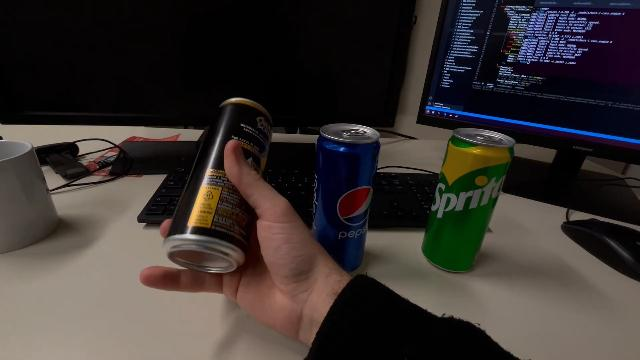OranSoda: (158, 94, 278, 276)
Pepsi: (310, 121, 382, 277)
Sprite: (419, 125, 518, 273)
